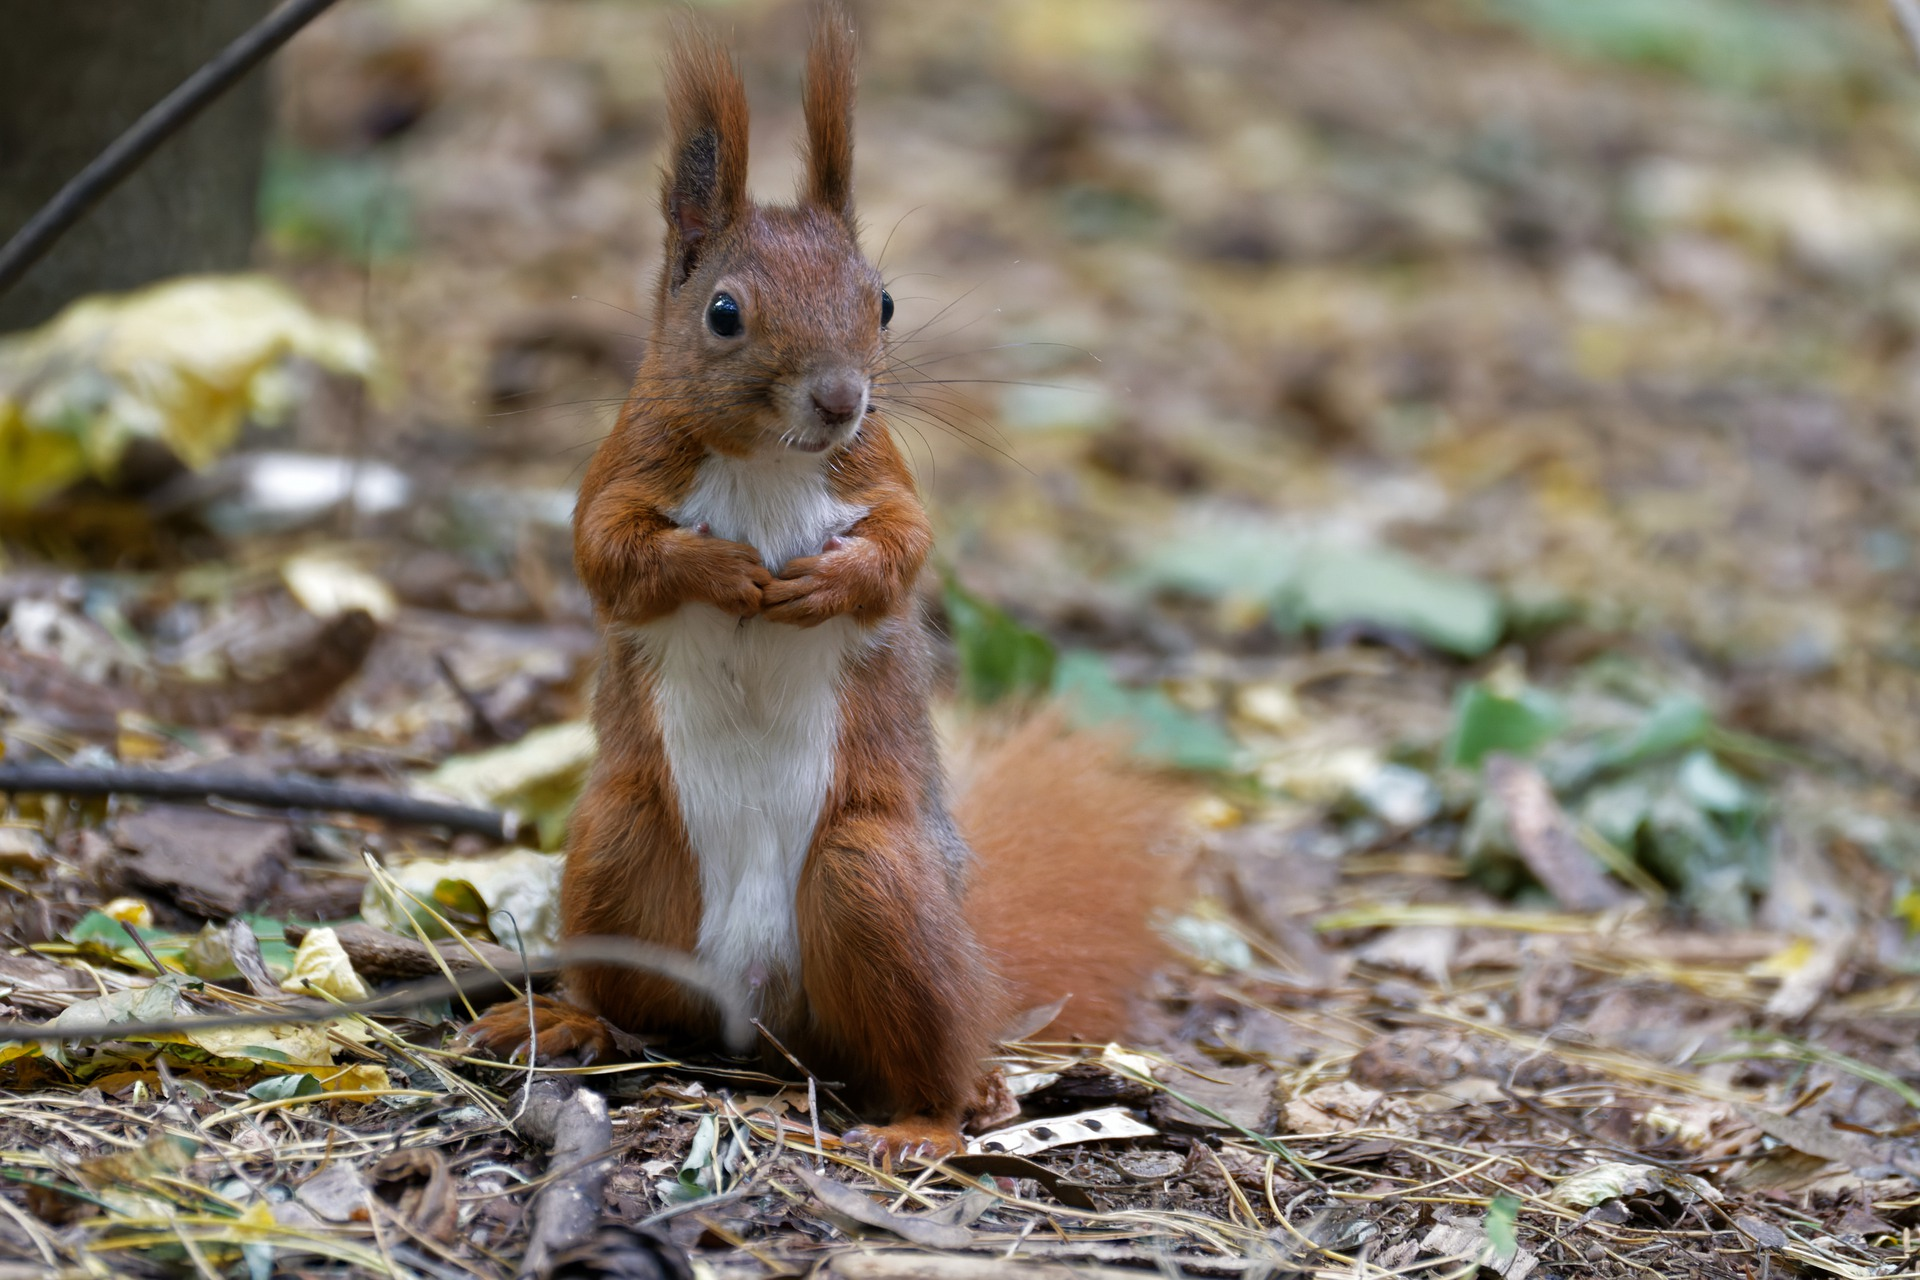squirrel: (501, 11, 1006, 1174)
